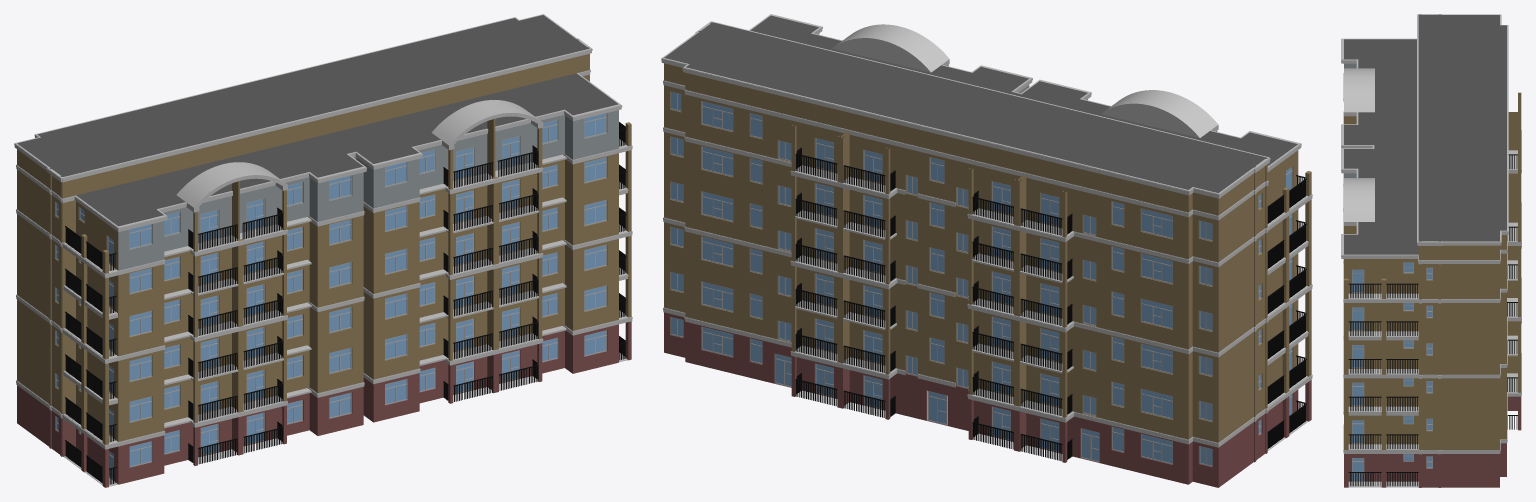
3 renders of one model, left to right at view 1: azimuth 30°, elevation 25°; view 2: azimuth 150°, elevation 25°; view 3: azimuth 270°, elevation 25°, orthographic. The views are drawn at different scales.
Parts seen in each view (by area): view 1: qiang02, ding, qiangbian, boli, langan, qiang01, qiang03, chuangkuang; view 2: qiang02, ding, qiangbian, boli, langan, qiang01, chuangkuang; view 3: ding, qiang02, qiangbian, langan, qiang01, boli, chuangkuang.
Boxes of the visible parts, x1,y1,x2,y2 form: qiang02: (17,54,631,444); ding: (17,15,618,226); qiangbian: (14,14,632,486); boli: (56,113,605,478); langan: (65,122,626,484); qiang01: (17,321,631,487); qiang03: (118,110,618,270); chuangkuang: (55,113,606,479); qiang02: (664,63,1311,442); ding: (664,15,1297,192); qiangbian: (661,14,1312,450); boli: (671,92,1291,465); langan: (795,147,1306,460); qiang01: (664,312,1311,487); chuangkuang: (670,91,1292,466); ding: (1344,14,1506,254); qiang02: (1344,92,1521,450); qiangbian: (1341,14,1521,487); langan: (1348,154,1517,486); qiang01: (1344,396,1521,487); boli: (1352,262,1432,480); chuangkuang: (1352,262,1432,481).
Bounding box in the file's own units: 3467 × 1743 × 1159.
